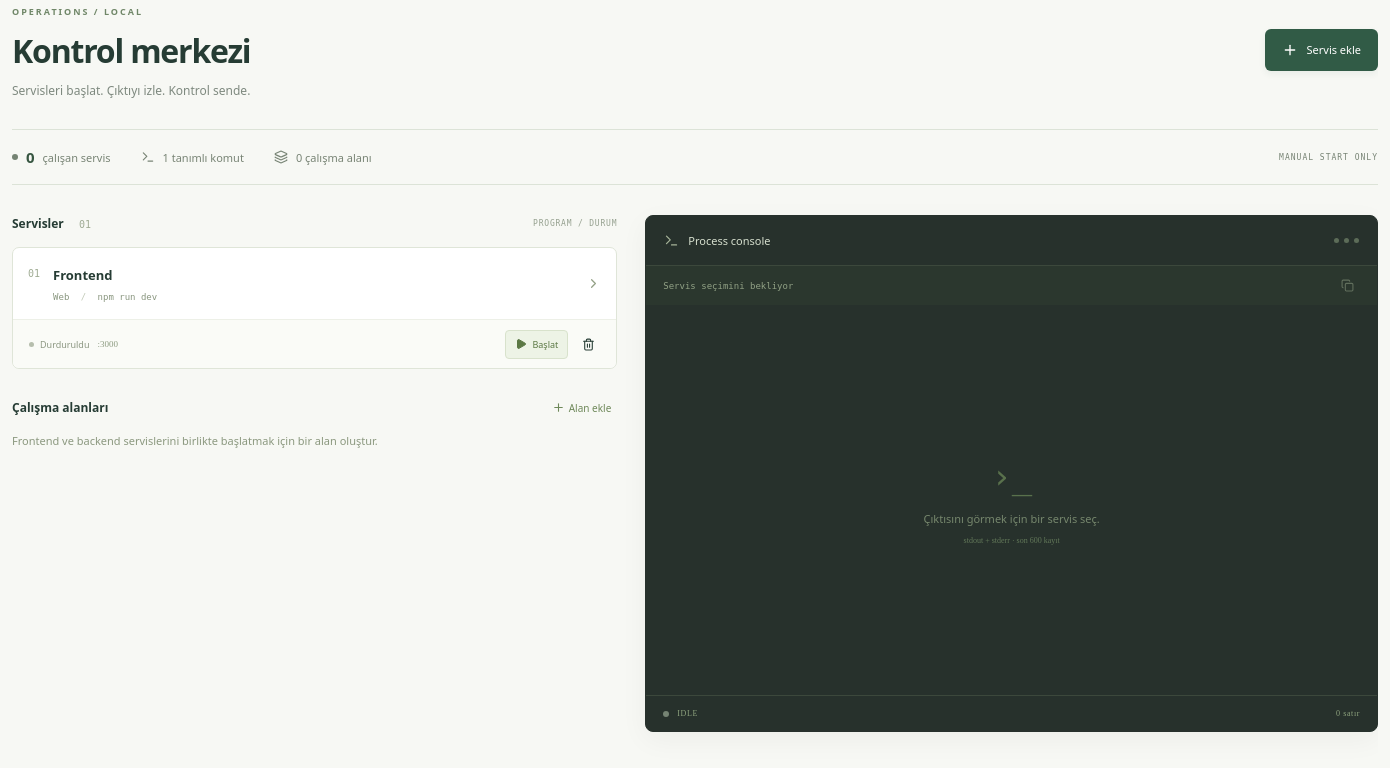
process controls › starts the selected registered service and surfaces port conflicts
The width and height of the screenshot is (1390, 768).
Click the button with aria-label "Frontend başlat".
click(537, 344)  # box [505,330,568,358]
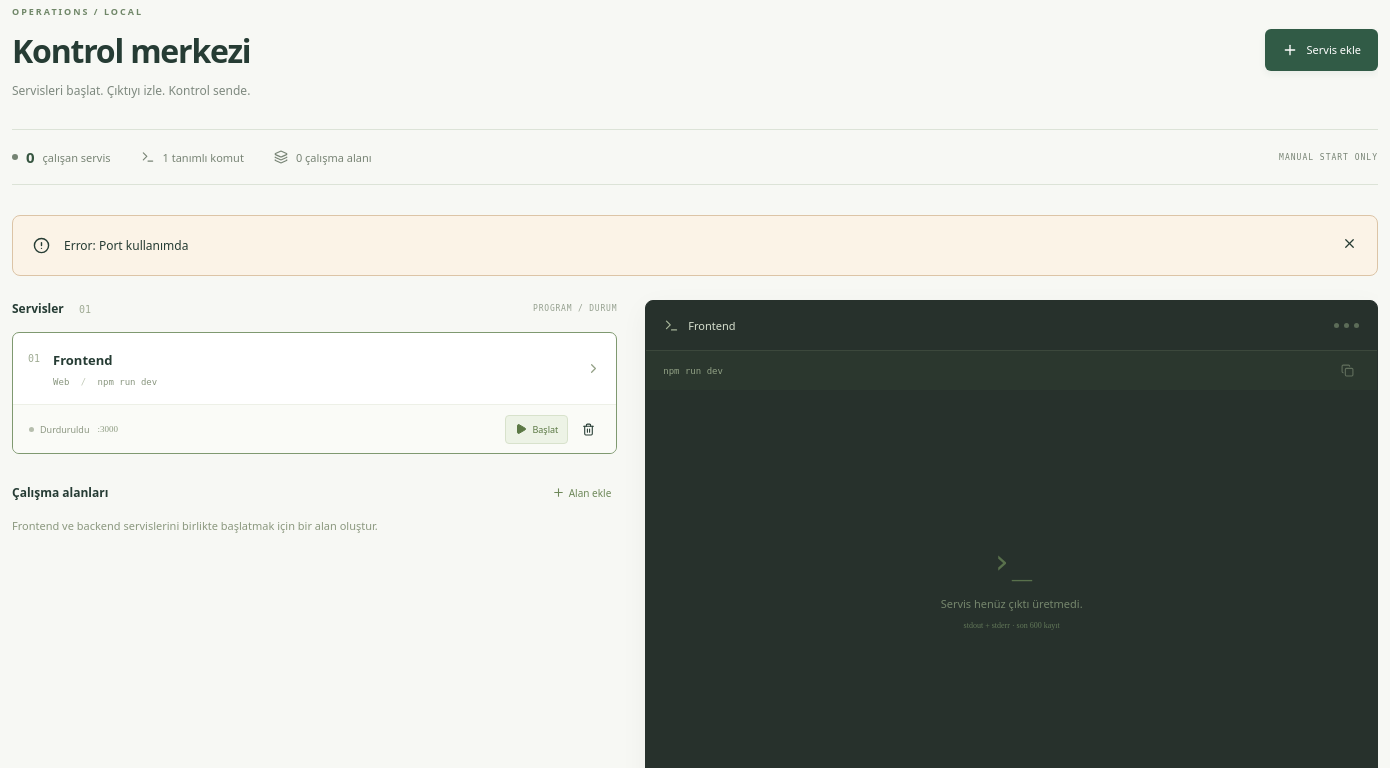
Check: the message "Error: Port kullanımda" is shown, box [12,215,1378,276]
